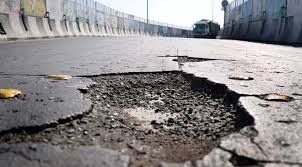potholes: (12, 33, 302, 162)
